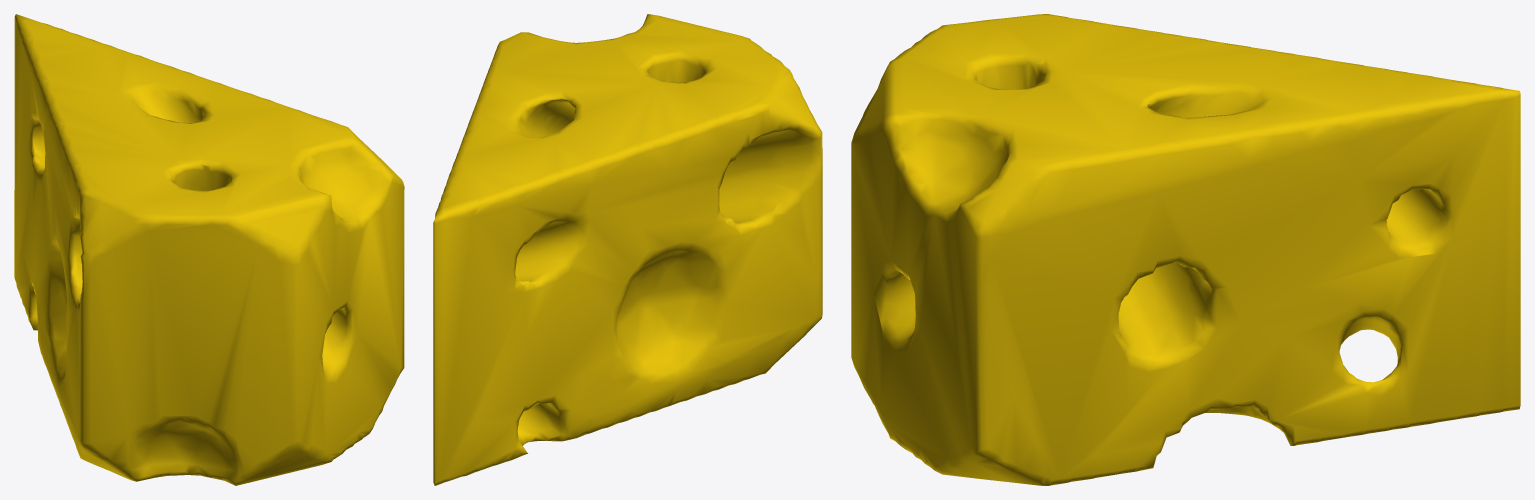
File: cheese.fbx
The picture shows the model from 3 angles, left to right: view 1: azimuth 30°, elevation 25°; view 2: azimuth 150°, elevation 25°; view 3: azimuth 270°, elevation 25°; orthographic projection. The views are drawn at different scales.
Parts seen in each view (by area): view 1: Cylinder; view 2: Cylinder; view 3: Cylinder.
Part boxes in pixels (x1,y1,x2,y2): Cylinder: (14, 14, 404, 485); Cylinder: (433, 14, 822, 485); Cylinder: (851, 14, 1520, 485).
Bounding box in the file's own units: 171 × 138 × 258.
